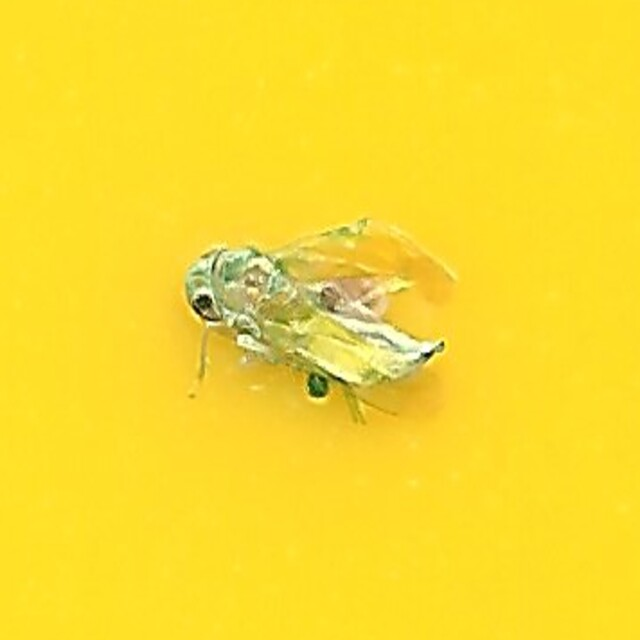Hemiptera: (180, 225, 460, 415)
